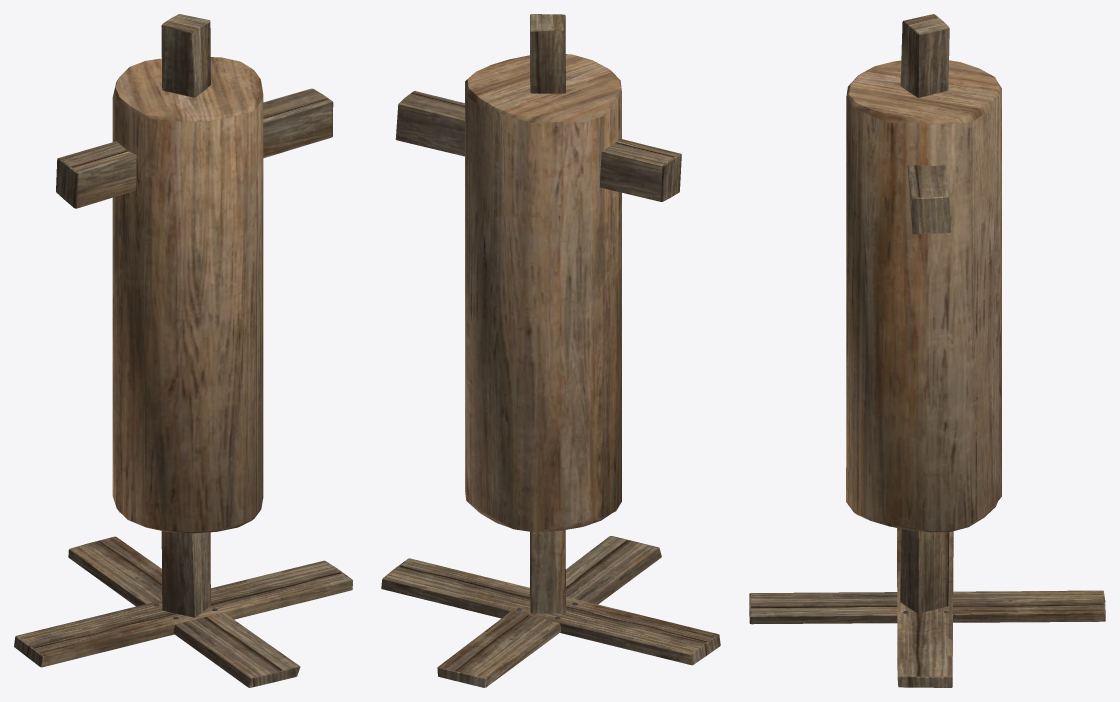
File: val_dummy.glb
3 renders of one model, left to right at view 1: azimuth 30°, elevation 25°; view 2: azimuth 150°, elevation 25°; view 3: azimuth 270°, elevation 25°, orthographic.
Parts seen in each view (by area): view 1: KB3D_VAL_PractiseDummy_A_Main; view 2: KB3D_VAL_PractiseDummy_A_Main; view 3: KB3D_VAL_PractiseDummy_A_Main.
Boxes of the visible parts, x1=… form: KB3D_VAL_PractiseDummy_A_Main: x1=14, y1=14, x2=352, y2=687; KB3D_VAL_PractiseDummy_A_Main: x1=381, y1=14, x2=720, y2=687; KB3D_VAL_PractiseDummy_A_Main: x1=749, y1=14, x2=1105, y2=687.
Size of the model in its own units: 1.02 by 1.86 by 1.02.
3 materials, 3 textured.
